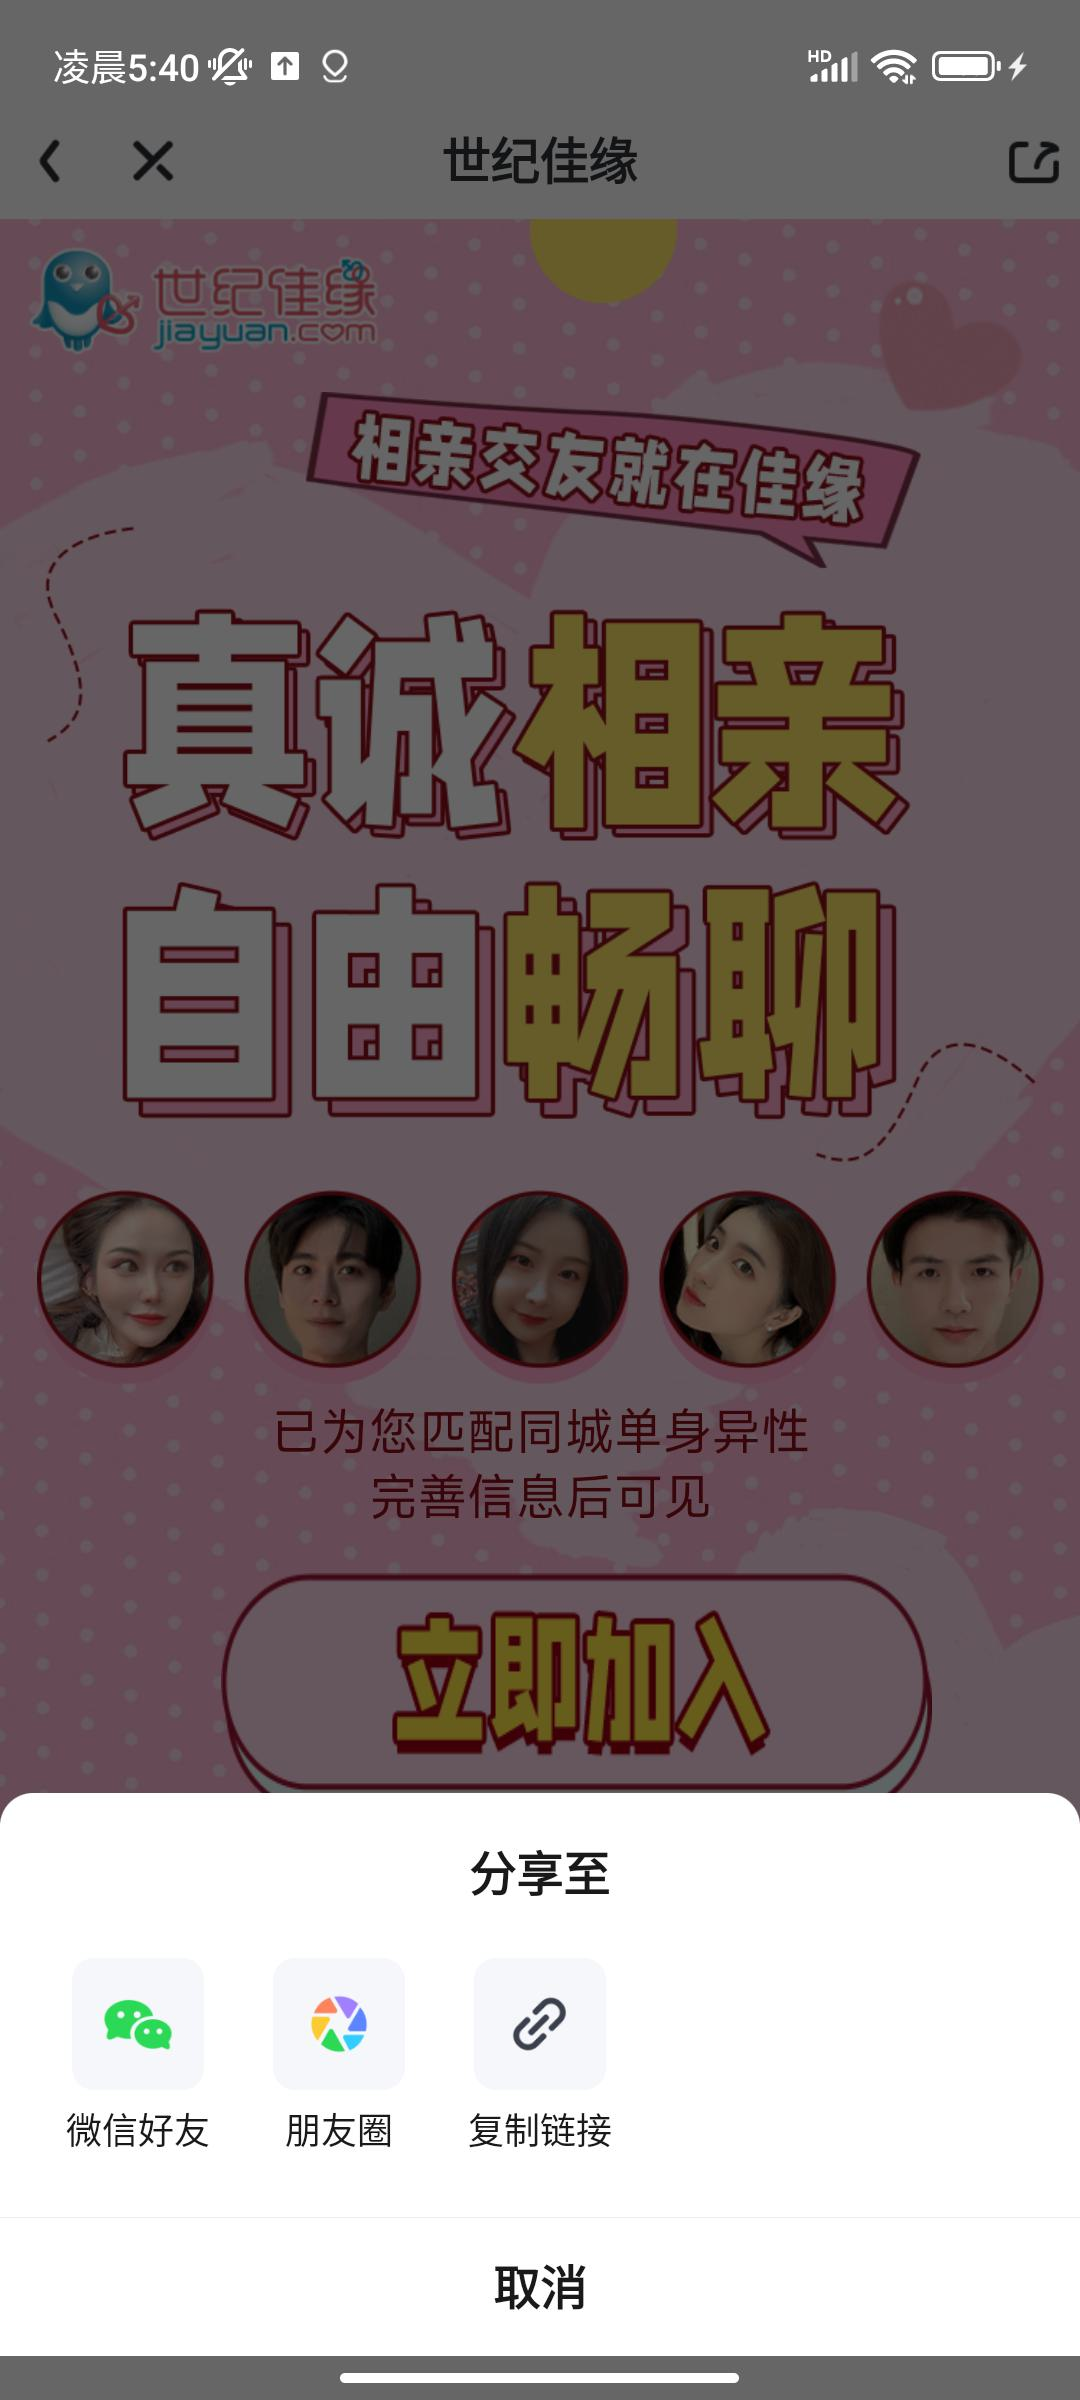ui_group: (6, 1798, 1080, 2366)
